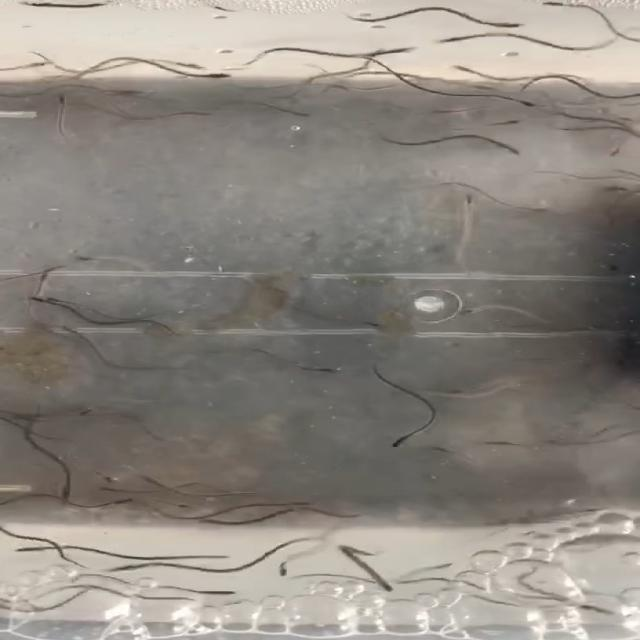active_glass_eel: (446, 60, 494, 80), (1, 541, 56, 558), (93, 562, 148, 578), (481, 439, 542, 453), (187, 584, 238, 600), (188, 69, 236, 85), (159, 499, 202, 516), (384, 42, 429, 58), (17, 294, 67, 308), (421, 104, 474, 117), (195, 516, 243, 530), (9, 55, 59, 68), (274, 552, 301, 576), (386, 431, 414, 454), (112, 86, 157, 100), (77, 403, 119, 418), (130, 472, 172, 487), (484, 112, 536, 124), (32, 264, 58, 288), (168, 57, 214, 70), (437, 31, 471, 48), (83, 470, 124, 484), (484, 20, 535, 31), (531, 0, 582, 11), (422, 444, 462, 458), (103, 495, 146, 508), (284, 106, 328, 118), (520, 200, 553, 216), (182, 108, 226, 120), (450, 304, 482, 320), (519, 97, 550, 113), (604, 142, 628, 162), (462, 84, 503, 95), (462, 192, 487, 210), (96, 482, 133, 494), (306, 364, 341, 376), (55, 492, 76, 512), (50, 93, 72, 112), (494, 144, 526, 157), (358, 322, 392, 334), (68, 252, 100, 262)
